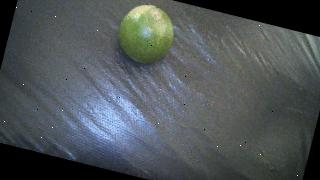DESECHO: (112, 0, 179, 69)
